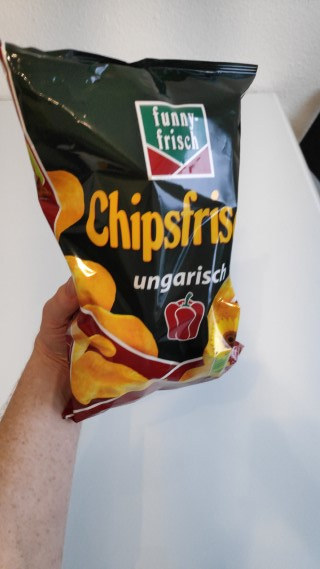chipsfrisch: (1, 38, 257, 424)
